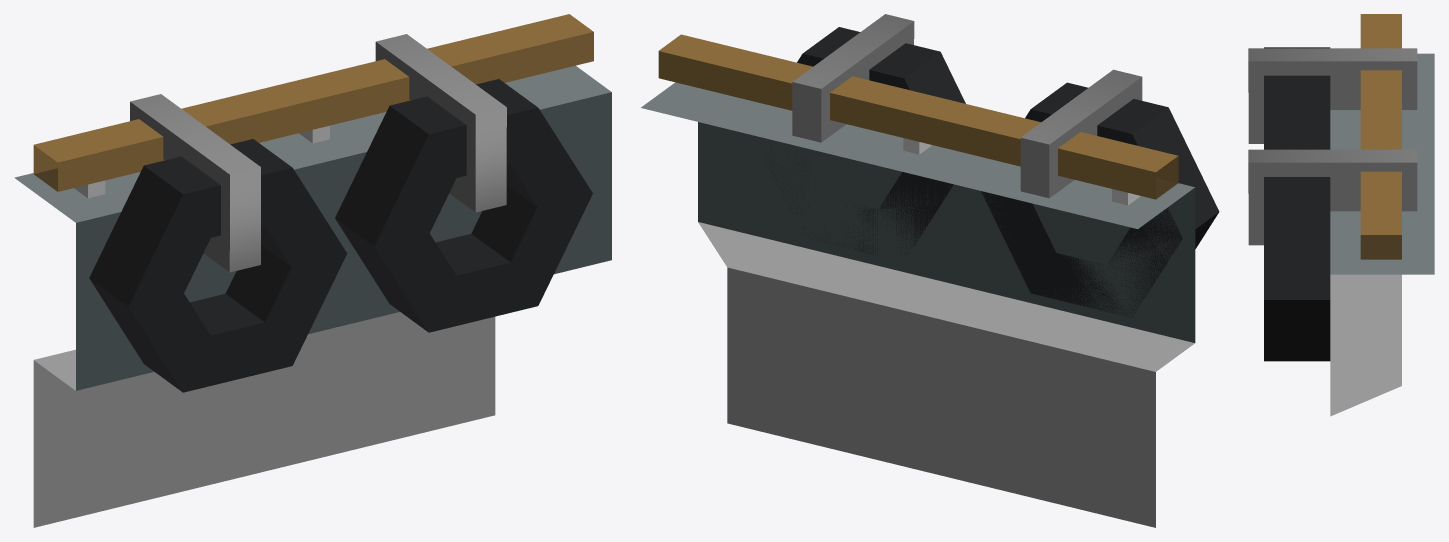
The model's file is Turning_Middle.fbx.
The picture shows the model from 3 angles, left to right: view 1: azimuth 30°, elevation 25°; view 2: azimuth 150°, elevation 25°; view 3: azimuth 270°, elevation 25°; orthographic projection. The views are drawn at different scales.
Visible parts, largest first — view 1: polySurface3486; view 2: polySurface3486; view 3: polySurface3486.
Part boxes in pixels (<box>): polySurface3486: <box>14,14,611,527</box>; polySurface3486: <box>641,14,1219,527</box>; polySurface3486: <box>1248,14,1434,416</box>.
Bounding box in the file's own units: 361 × 254 × 129.
